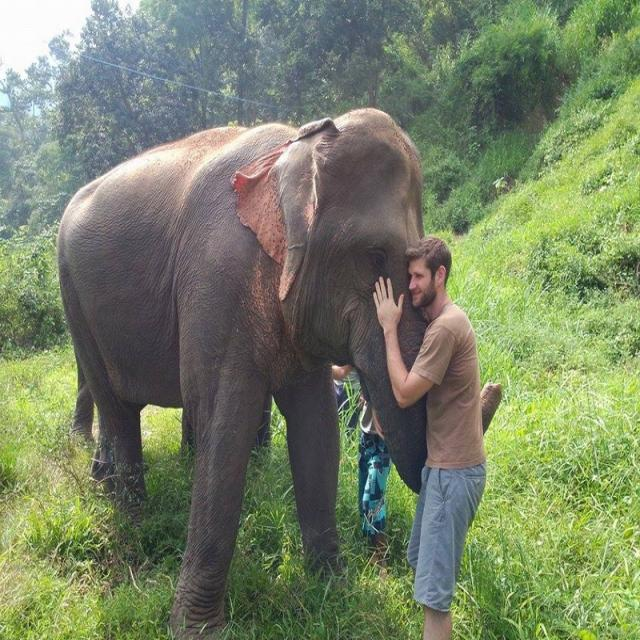Elephant: (57, 78, 487, 640)
